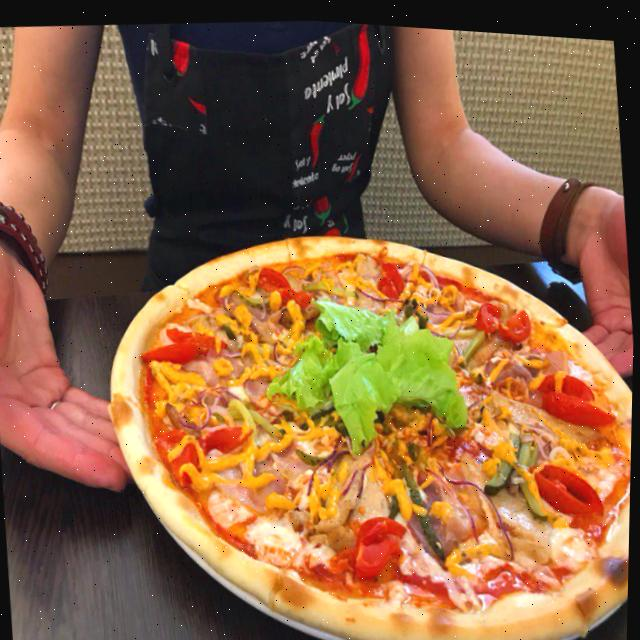pizza: (86, 186, 637, 640)
tomatoes: (324, 500, 416, 589), (525, 350, 621, 430), (527, 441, 611, 519), (155, 416, 212, 495), (199, 410, 259, 462), (164, 315, 232, 359), (134, 331, 205, 369), (235, 256, 294, 298), (371, 248, 409, 301), (272, 272, 317, 309), (469, 288, 505, 333), (501, 296, 535, 339)
